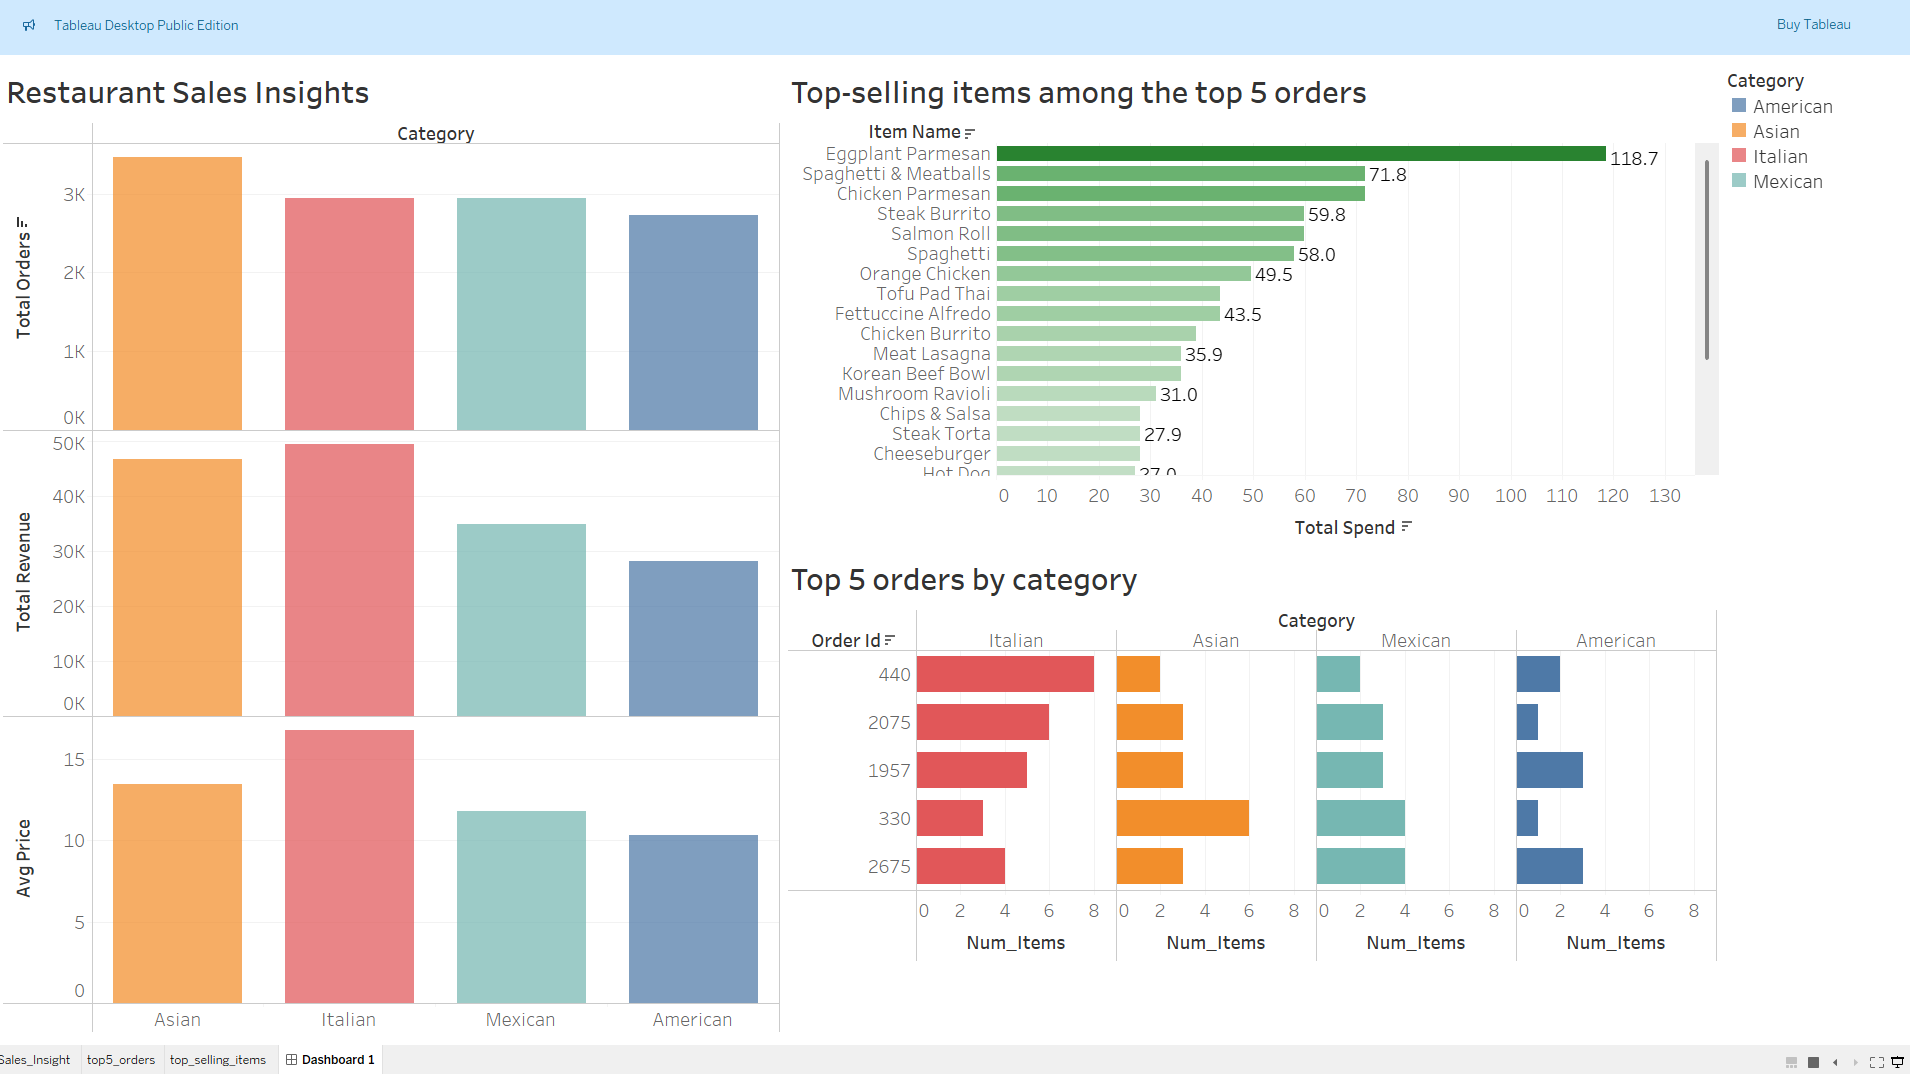

Layout of this report page (visuals, bound fields, positions):
{"tool":"tableau","page":{"name":"Dashboard 1","canvas":[1000,1000],"units":"permille","ordinal":0},"visuals":[{"type":"worksheet","title":"Sales_Insight","mark":"Automatic","rows":["total_orders","total_revenue","avg_price"],"cols":["category"],"box":[5,10.1,408.4,979.9]},{"type":"worksheet","title":"top_selling_items","mark":"Automatic","rows":["item_name"],"cols":["price"],"box":[413.3,10.1,488.2,489.9]},{"type":"legend","title":"Sales_Insight","param":"[federated.0oohm2t0fnlcgt12i493r1dh0l5t].[none:category:nk]","box":[901.5,10.1,93.5,168.6]},{"type":"worksheet","title":"top5_orders","mark":"Bar","rows":["order_id"],"cols":["category","num_items"],"box":[413.3,500,488.2,489.9]}]}

Visuals, with their boxes on the dashboard's canvas, which has no fixed pixel size, in thousandths of its width and height (x1, y1, x2, y2). These are canvas units, not pixel positions in the 1910x1074 screenshot, which may show the page scaled, cropped or inside an application window:
"Sales_Insight" worksheet: x1=5, y1=10, x2=413, y2=990
"top_selling_items" worksheet: x1=413, y1=10, x2=902, y2=500
"Sales_Insight" legend: x1=902, y1=10, x2=995, y2=179
"top5_orders" worksheet (Bar marks): x1=413, y1=500, x2=902, y2=990
